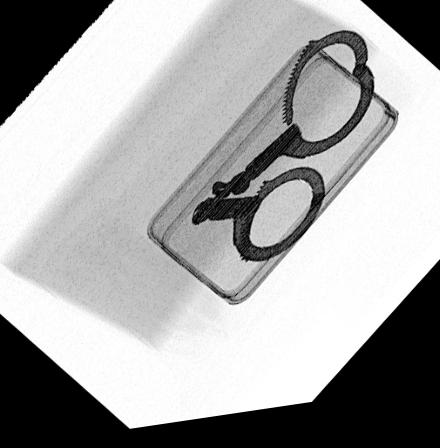HandCuffs: (192, 37, 378, 271)
